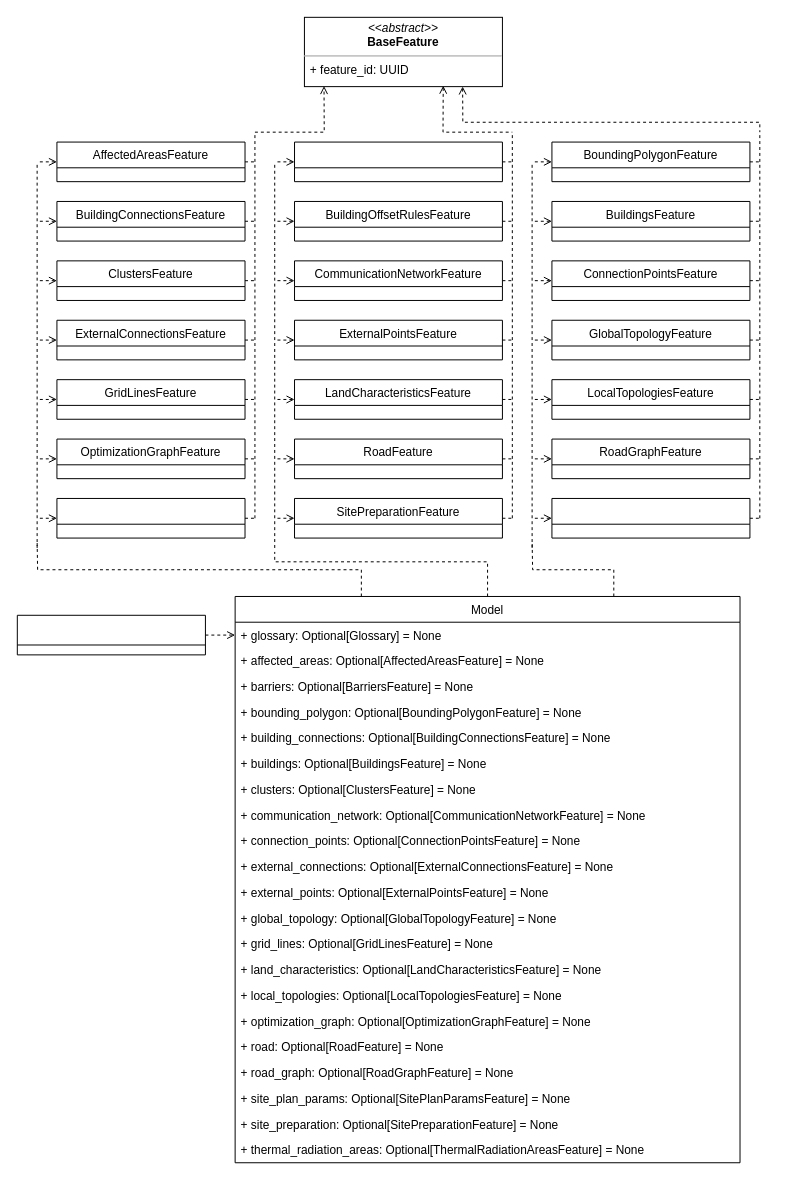
Some shapes in this 785 by 1183 pixel diagram are drawn without their labels. The centre of each missing label's shape, as x and y in pixels:
"BarriersFeature" goes at (x=398, y=161).
"Glossary" goes at (x=110, y=634).
"SitePlanParamsFeature" goes at (x=150, y=517).
"ThermalRadiationAreasFeature" goes at (x=650, y=517).
